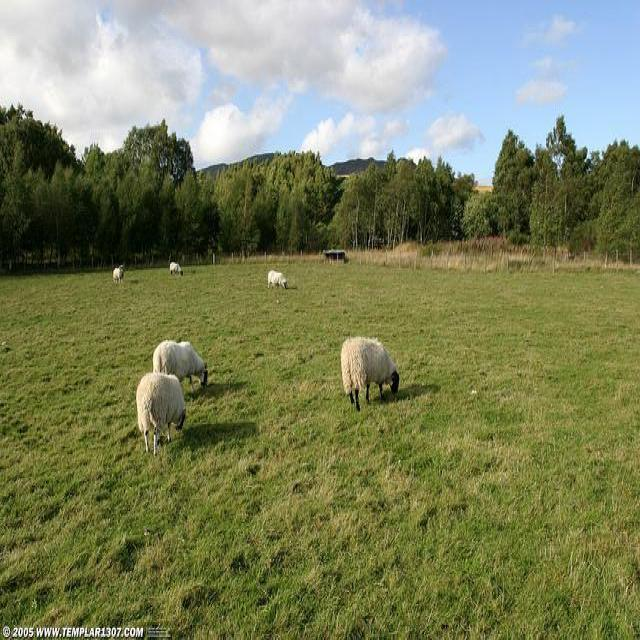Sheep: (136, 369, 186, 460), (341, 337, 400, 414), (152, 340, 209, 396)
